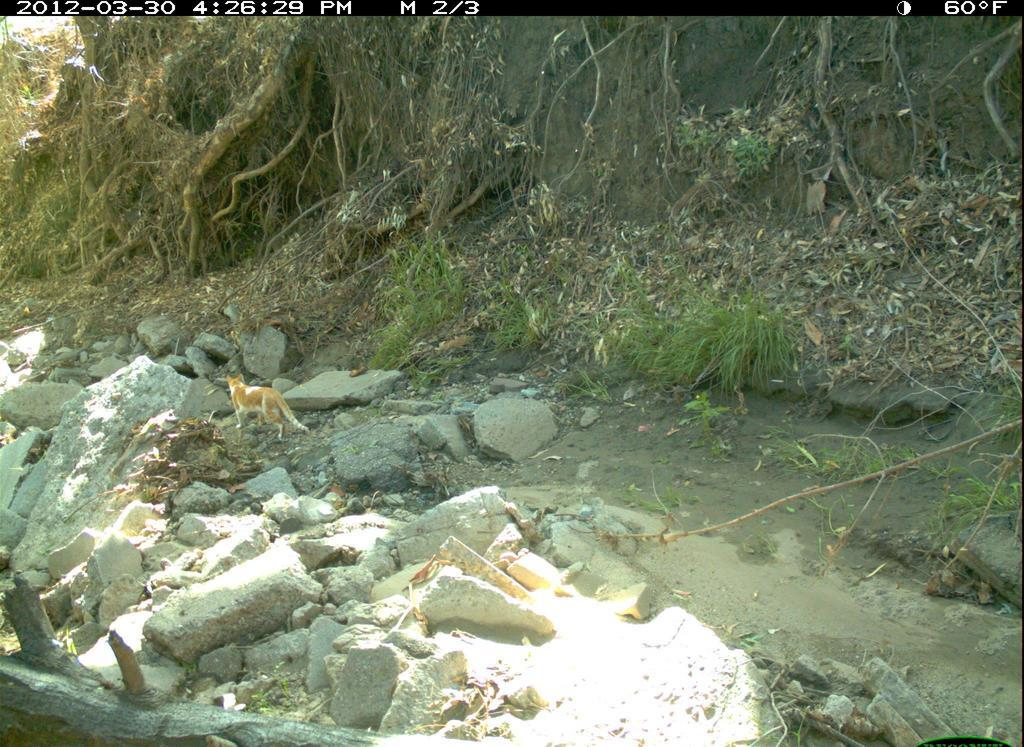cat: (212, 372, 317, 451)
